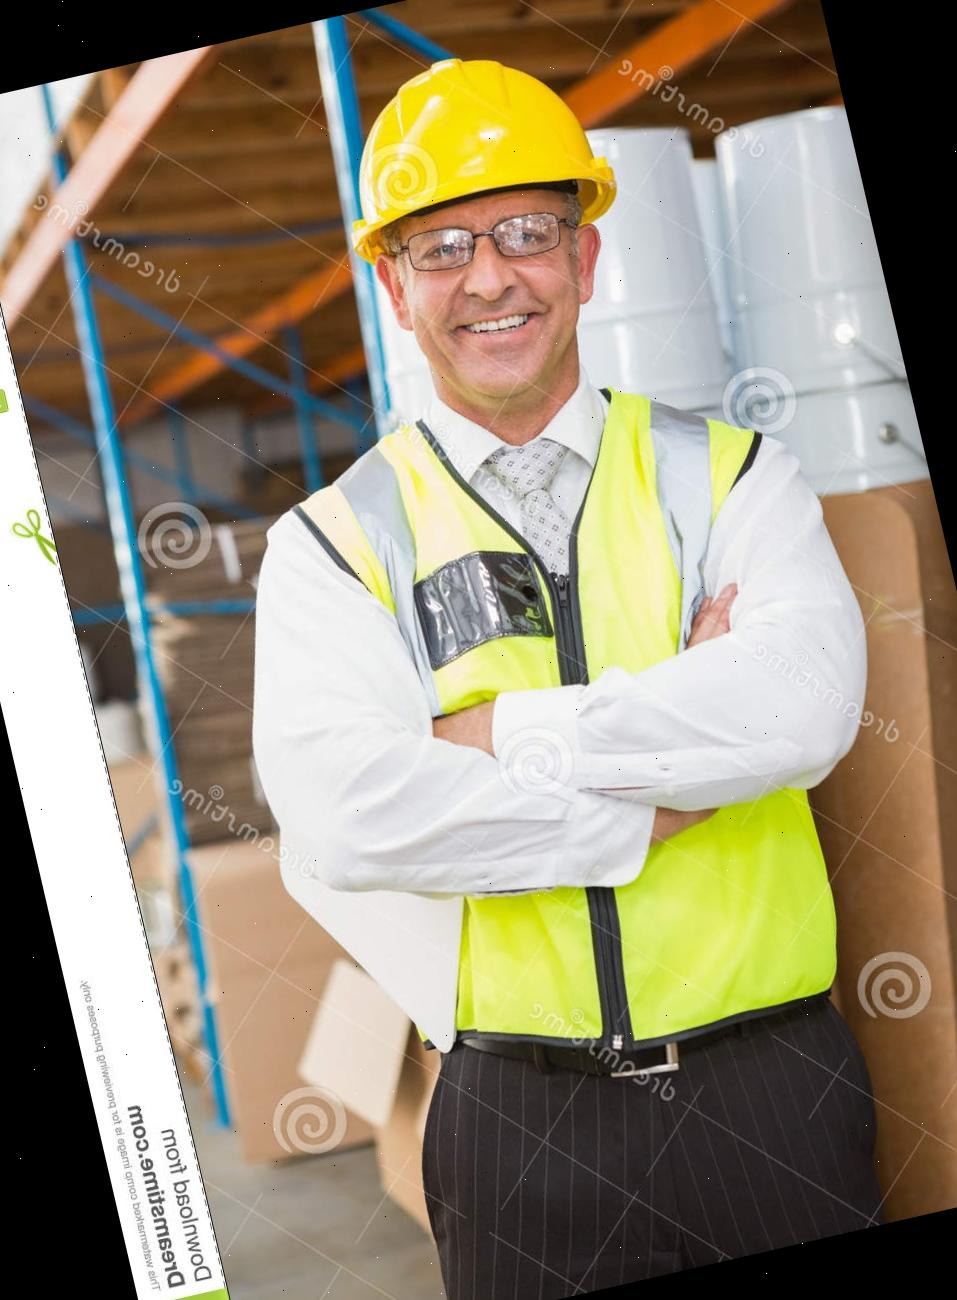helmet: (319, 24, 628, 276)
wear: (292, 388, 877, 1068)
